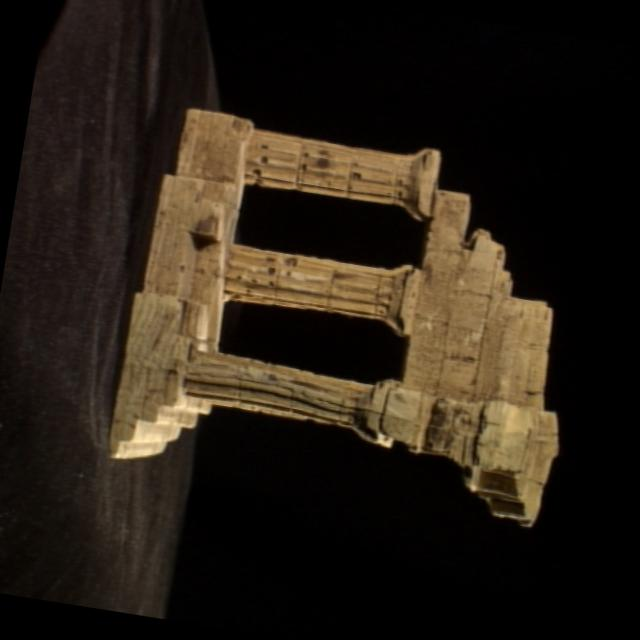Instance-Segmentation: (109, 110, 557, 526)
